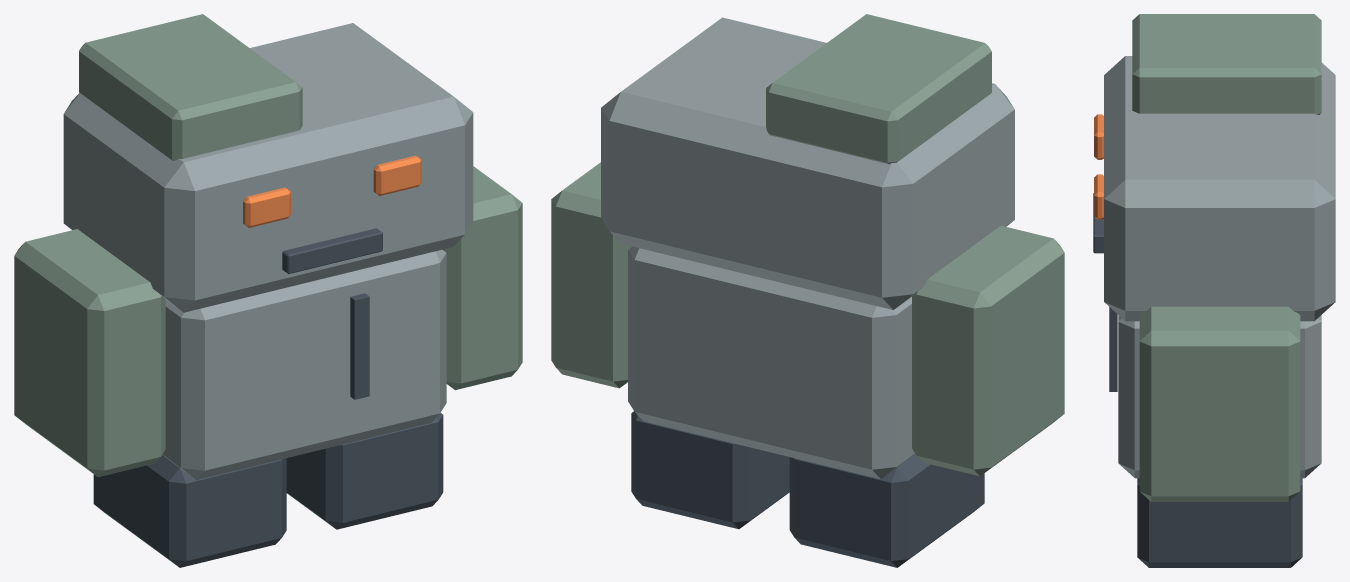
The model's file is EnemyRock.fbx.
The picture shows the model from 3 angles, left to right: view 1: azimuth 30°, elevation 25°; view 2: azimuth 150°, elevation 25°; view 3: azimuth 270°, elevation 25°; orthographic projection. The views are drawn at different scales.
Parts seen in each view (by area): view 1: EnemyRock; view 2: EnemyRock; view 3: EnemyRock.
Part boxes in pixels (left/top/right/bottom): EnemyRock: left=14, top=14, right=522, bottom=567; EnemyRock: left=551, top=14, right=1064, bottom=567; EnemyRock: left=1093, top=14, right=1335, bottom=567.
Size of the model in its own units: 100 by 102 by 51.3.
